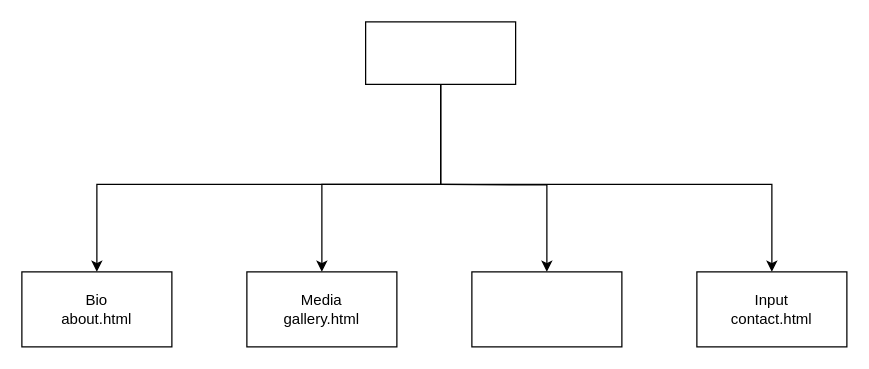
This 869x369 diagram has some shape labels left out. The box of each missing label's shape, as (x1, y1, x2, y2) in pixels:
Home index.html: (364, 21, 516, 84)
Results data.html: (471, 271, 622, 347)
